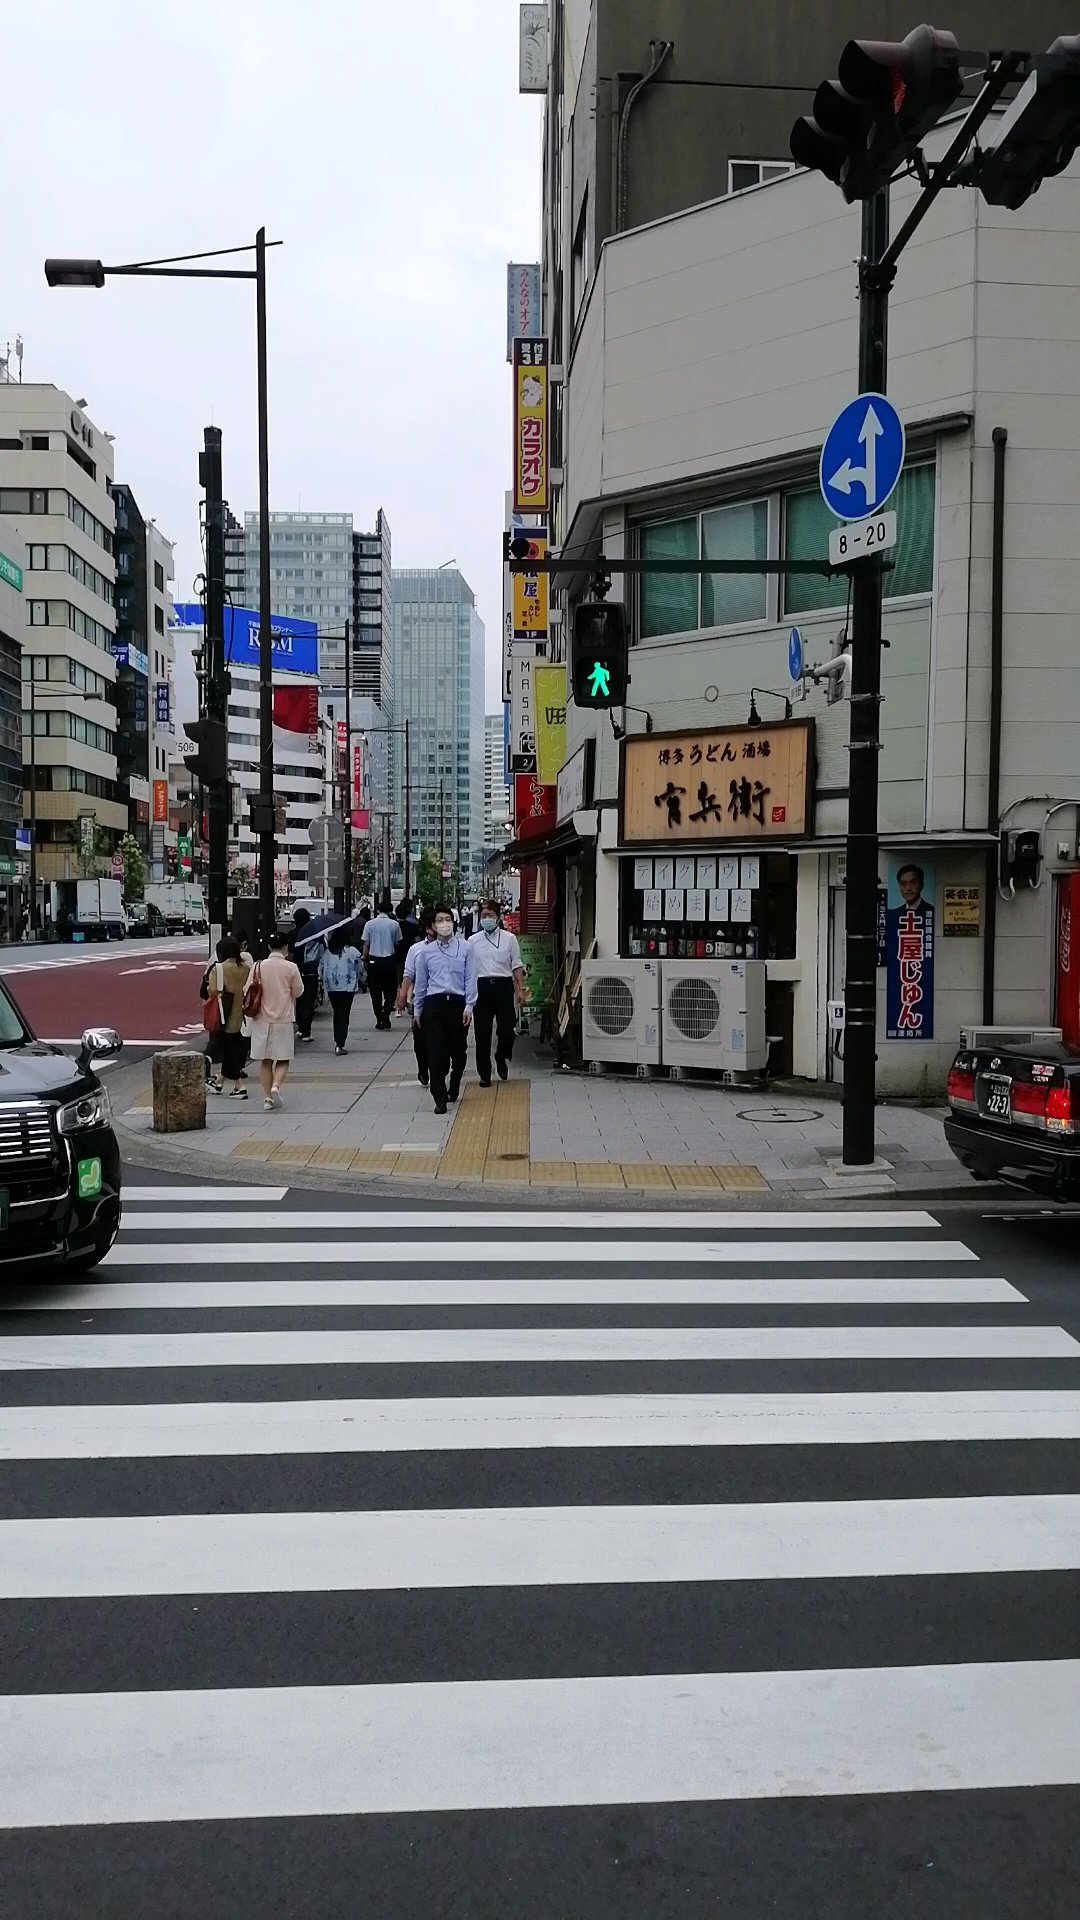green: (574, 603, 626, 707)
